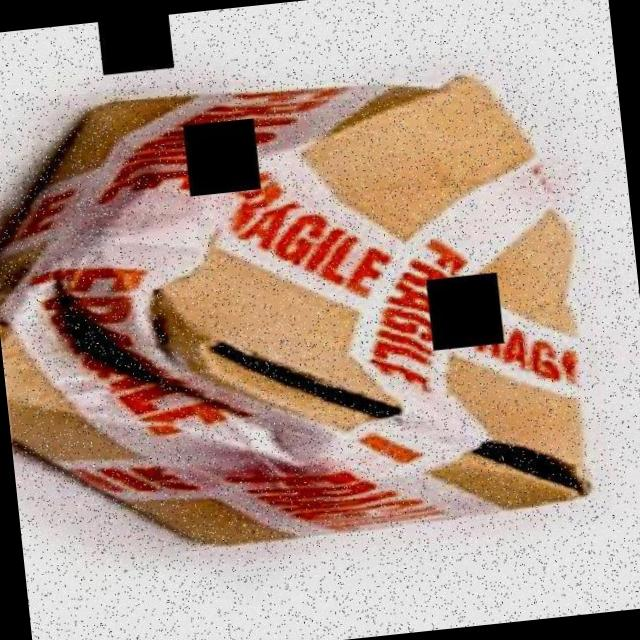box: (0, 42, 614, 583)
